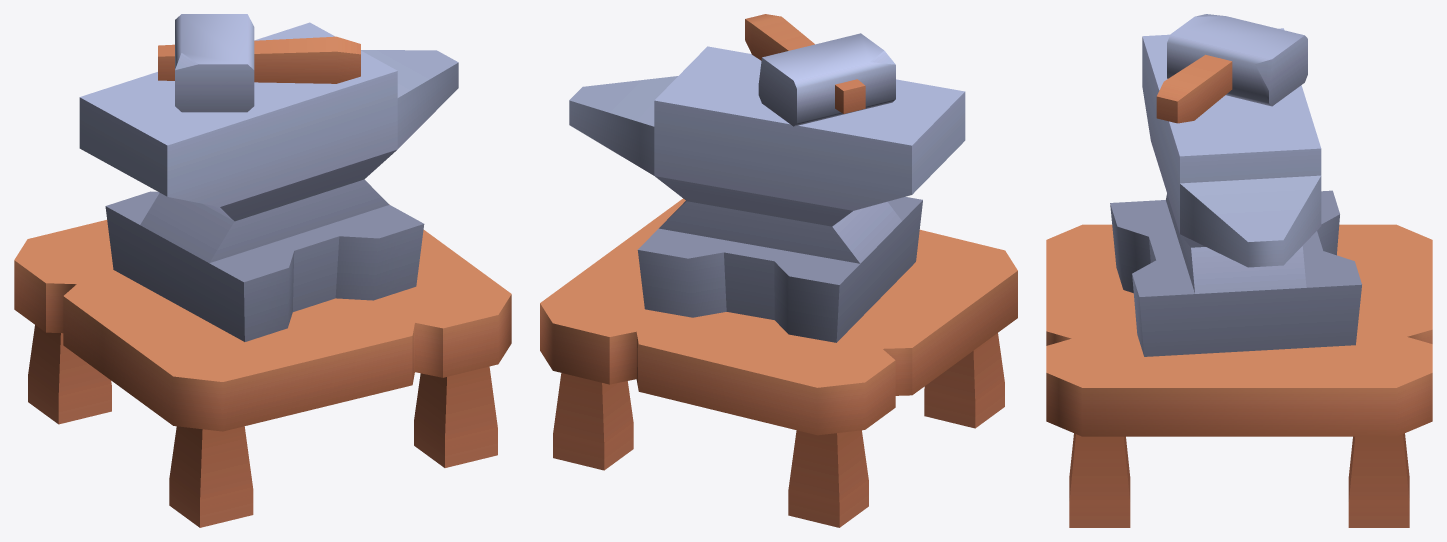
The model's file is k-survival-workbench-anvil.glb.
3 renders of one model, left to right at view 1: azimuth 30°, elevation 25°; view 2: azimuth 150°, elevation 25°; view 3: azimuth 270°, elevation 25°, orthographic. The views are drawn at different scales.
Parts seen in each view (by area): view 1: workbench-anvil, hammer; view 2: workbench-anvil, hammer; view 3: workbench-anvil, hammer.
Boxes of the visible parts, bbox=[...] form: workbench-anvil: bbox=[14, 22, 511, 527]; hammer: bbox=[158, 14, 360, 112]; workbench-anvil: bbox=[540, 46, 1017, 527]; hammer: bbox=[745, 14, 895, 126]; workbench-anvil: bbox=[1046, 28, 1432, 527]; hammer: bbox=[1156, 14, 1307, 123].
Bounding box in the file's own units: 0.3227 × 0.3358 × 0.2957.
1 material, 1 textured.
